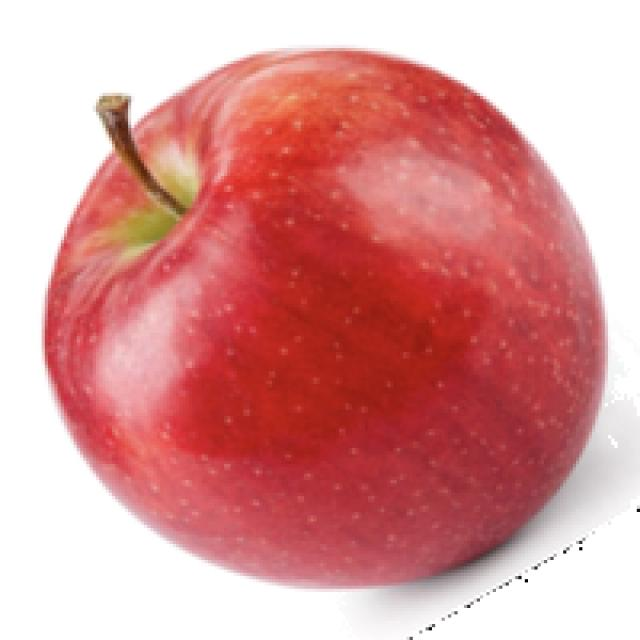apple: (35, 42, 637, 637)
